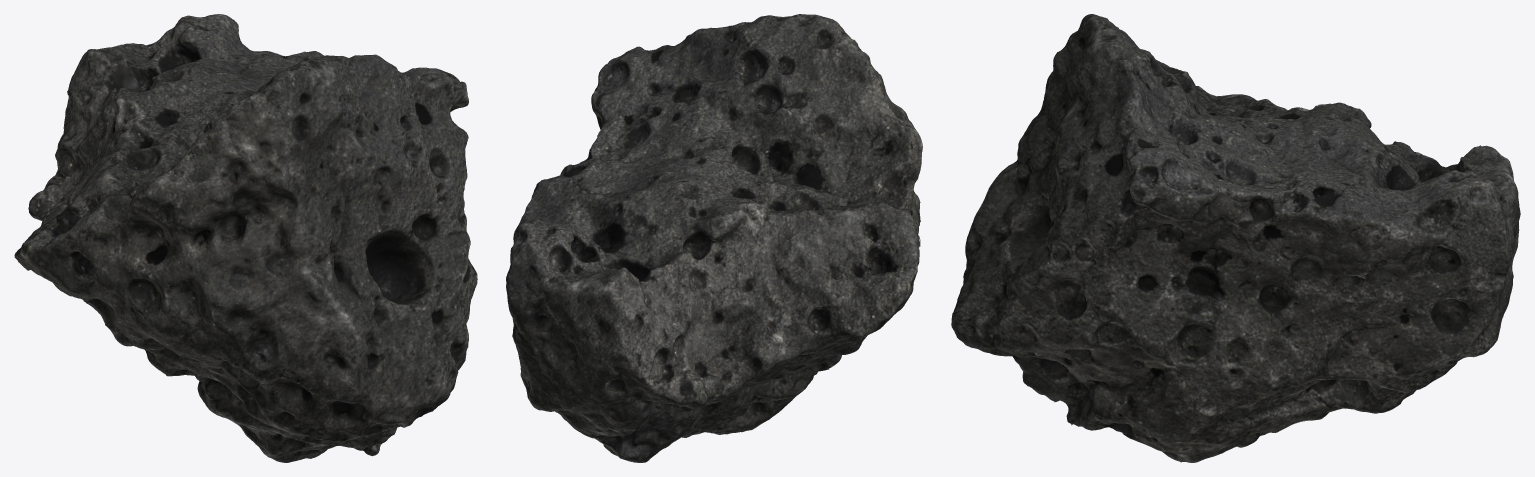
3 views of the same model, side by side, from view 1: azimuth 30°, elevation 25°; view 2: azimuth 150°, elevation 25°; view 3: azimuth 270°, elevation 25° (orthographic). The views are drawn at different scales.
Visible parts, largest first — view 1: Object_2, Object_3; view 2: Object_3, Object_2; view 3: Object_2, Object_3.
Part boxes in pixels (x1,y1,x2,y2): Object_2: [33, 54, 477, 462]; Object_3: [14, 14, 476, 462]; Object_3: [506, 15, 922, 462]; Object_2: [590, 14, 922, 459]; Object_2: [951, 14, 1430, 462]; Object_3: [951, 14, 1520, 462].
Bounding box in the file's own units: 0.0288 × 0.0311 × 0.0388.
1 material, 1 textured.
